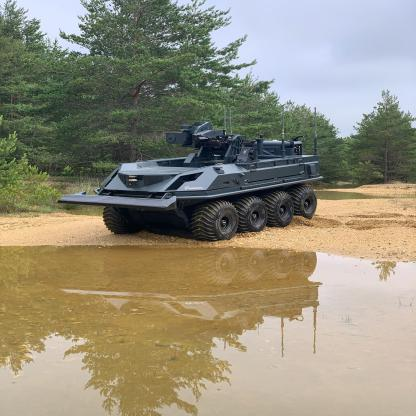UGV: (58, 119, 326, 242)
